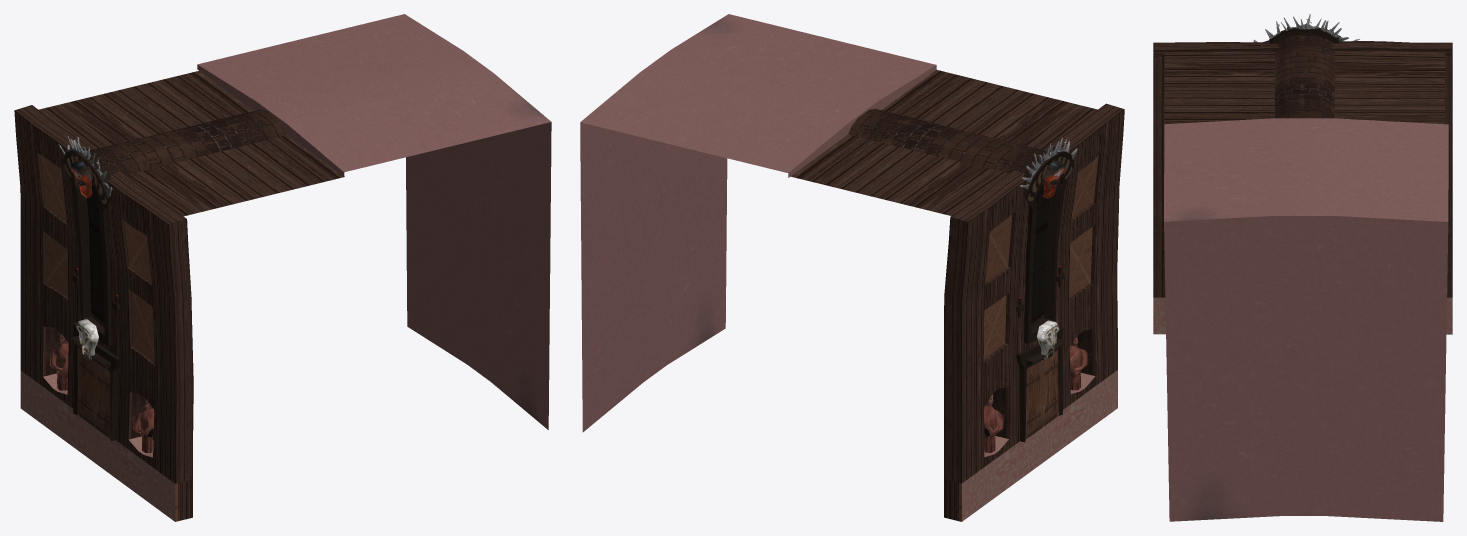
File: TearCollector.fbx
3 views of the same model, side by side, from view 1: azimuth 30°, elevation 25°; view 2: azimuth 150°, elevation 25°; view 3: azimuth 270°, elevation 25° (orthographic). The views are drawn at different scales.
Parts seen in each view (by area): view 1: TearCollector; view 2: TearCollector; view 3: TearCollector.
Part boxes in pixels (x1,y1,x2,y2): TearCollector: [14, 14, 551, 521]; TearCollector: [580, 14, 1124, 521]; TearCollector: [1153, 14, 1452, 521].
Size of the model in its own units: 15.45 by 12.15 by 10.28.
